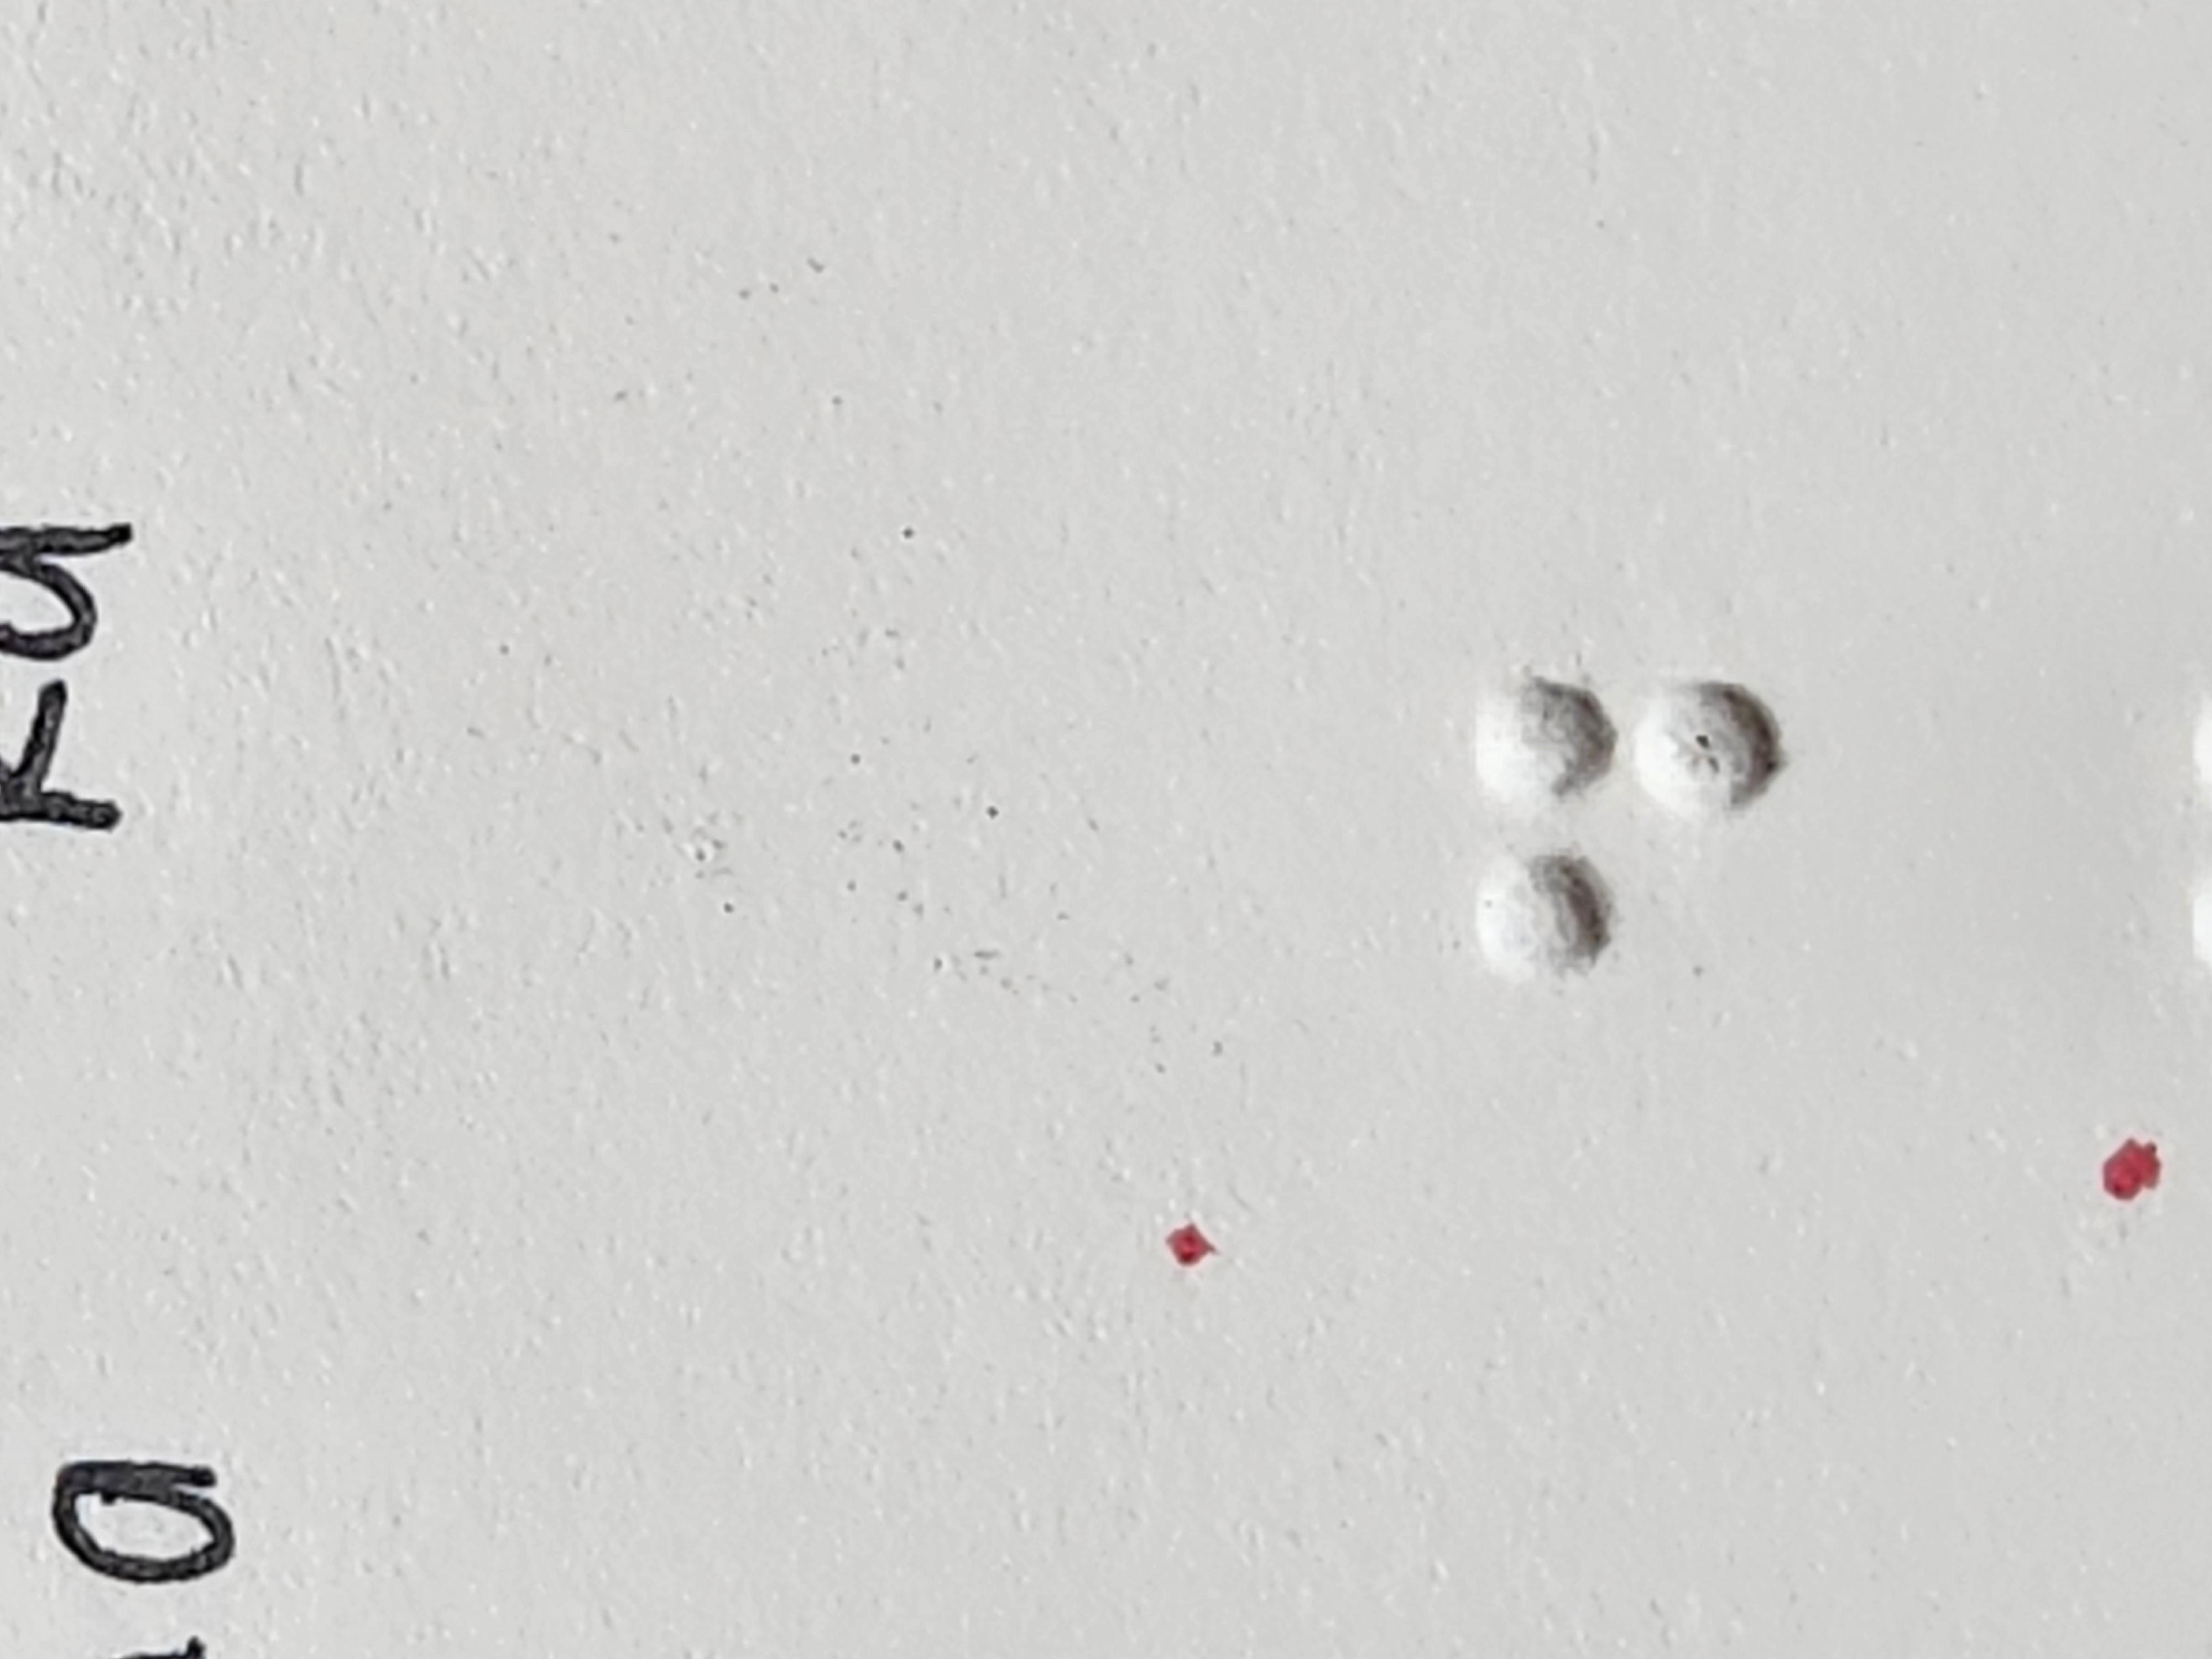letter_d: (887, 1105, 1310, 1499)
